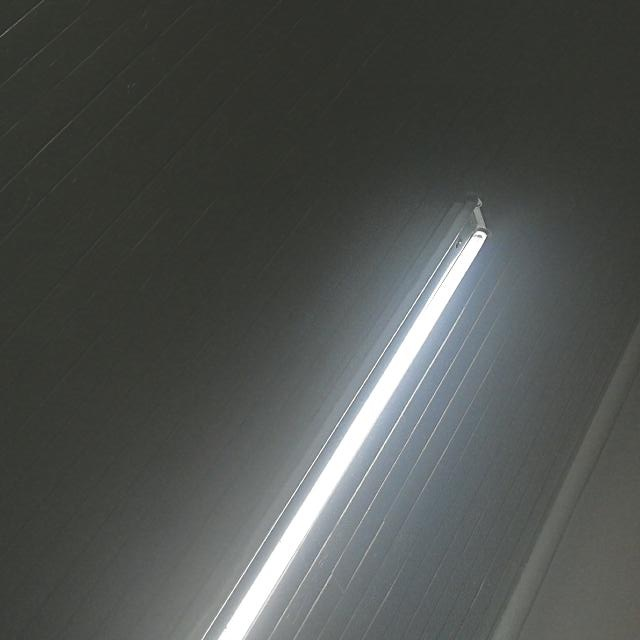fluorescent tube: (168, 195, 540, 640)
